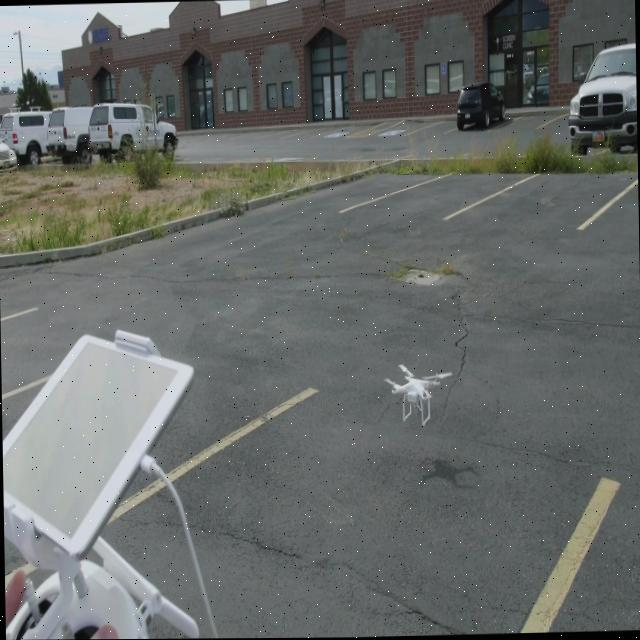drone: (387, 360, 452, 427)
